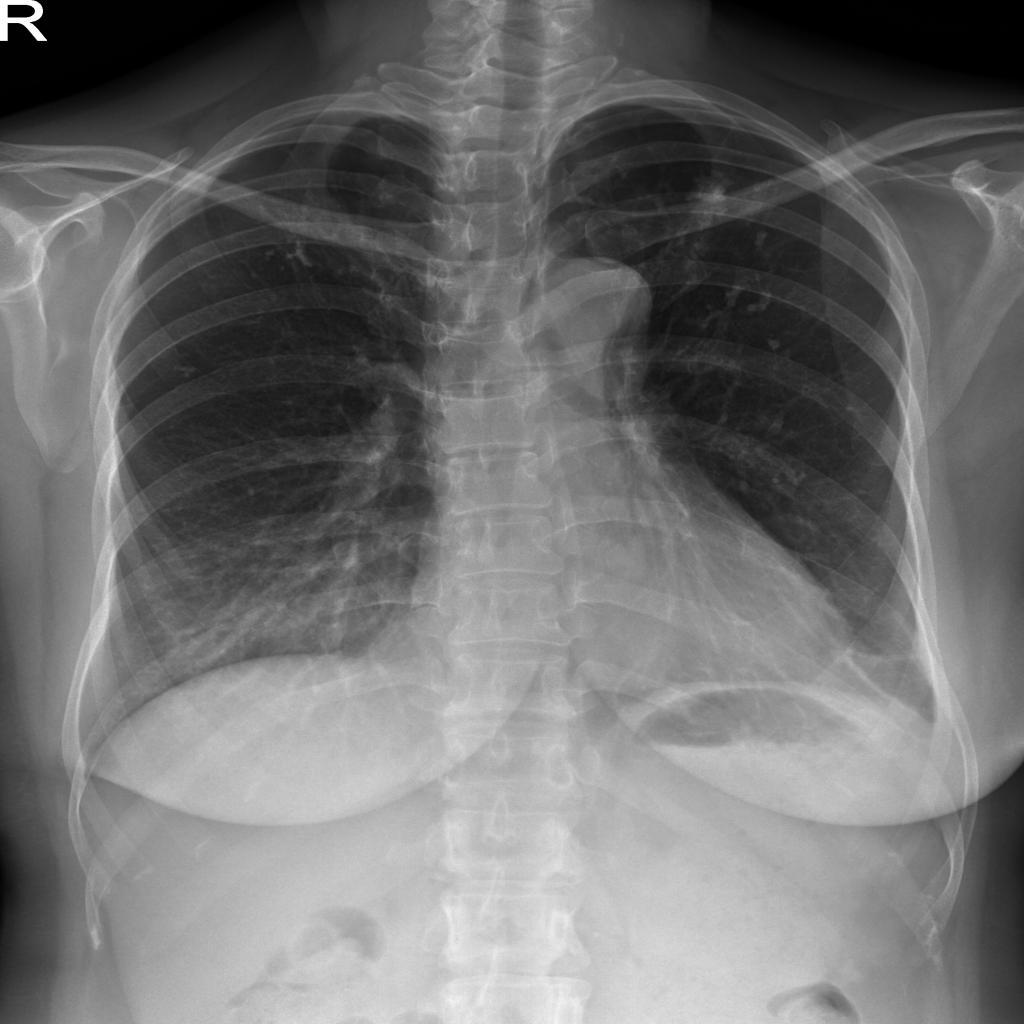Nodule: (246, 237, 315, 287)
